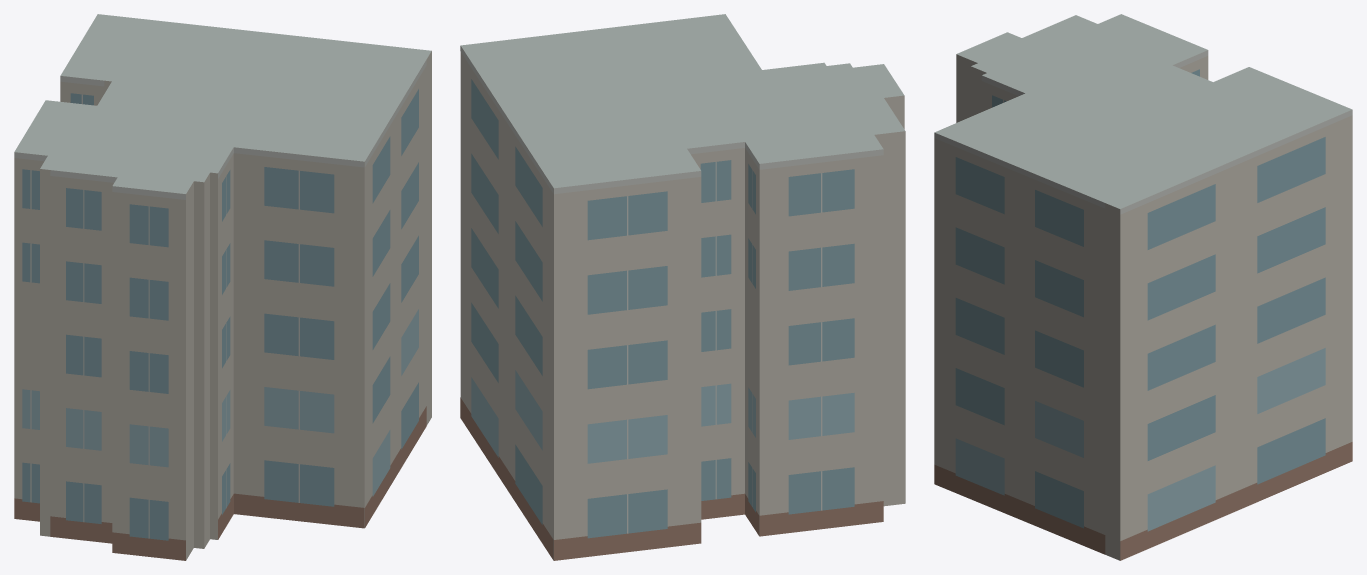
Rendered from survey-upis-32747444.glb.
3 renders of one model, left to right at view 1: azimuth 30°, elevation 25°; view 2: azimuth 150°, elevation 25°; view 3: azimuth 270°, elevation 25°, orthographic. The views are drawn at different scales.
Parts seen in each view (by area): view 1: survey-upis-32747444.tmp; view 2: survey-upis-32747444.tmp; view 3: survey-upis-32747444.tmp.
Boxes of the visible parts, x1,y1,x2,y2 form: survey-upis-32747444.tmp: (14, 14, 431, 560); survey-upis-32747444.tmp: (460, 14, 905, 560); survey-upis-32747444.tmp: (934, 14, 1352, 560).
Bounding box in the file's own units: 18.16 × 15.25 × 16.44.
